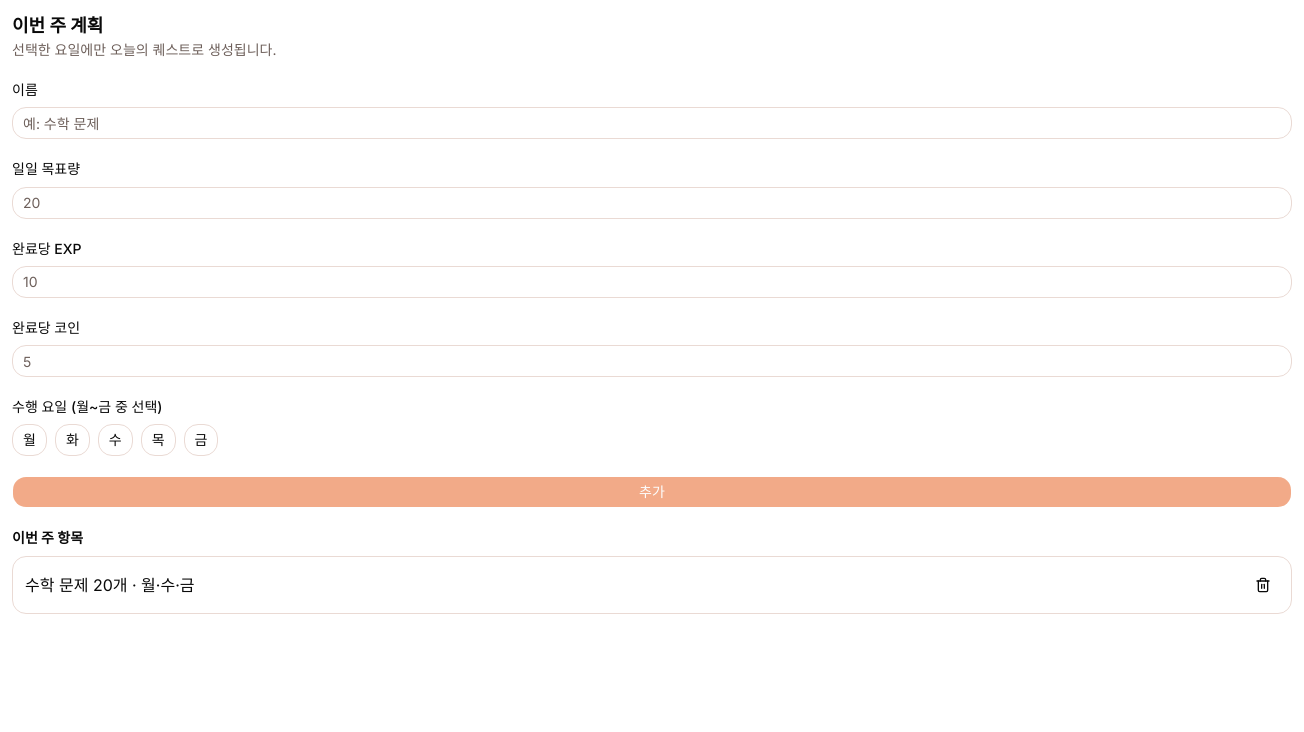
Test: 주 경계 — 계획·진행 지속성 (S12) › [S12-3] 다음 주에도 계획을 추가·수정할 수 있다
This screenshot has width=1304, height=732.
Expected: the text "수학 문제 20개 · 월·수·금" is shown, left=25, top=575, right=194, bottom=595
In the field with placeholder "예: 수학 문제": (652, 123) left=12, top=107, right=1292, bottom=139, type "새 항목"
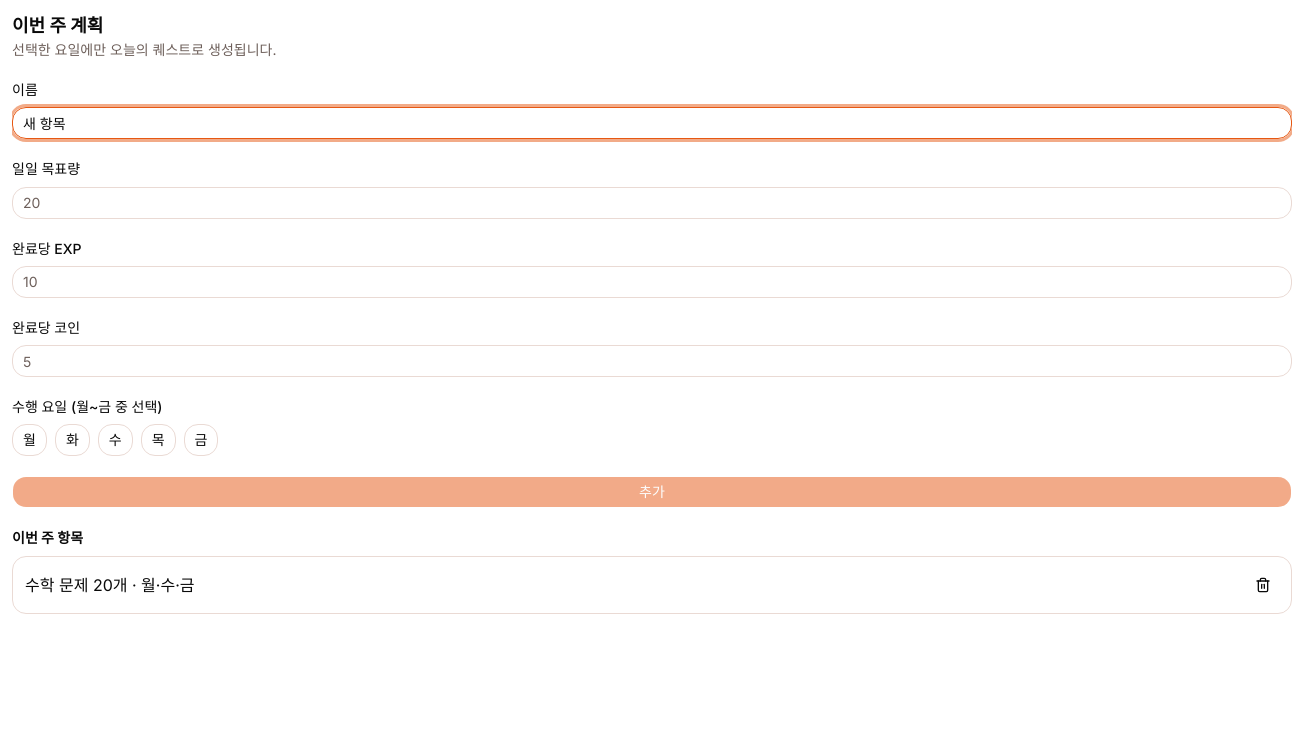
Click the button "화": (72, 440) left=55, top=424, right=90, bottom=456
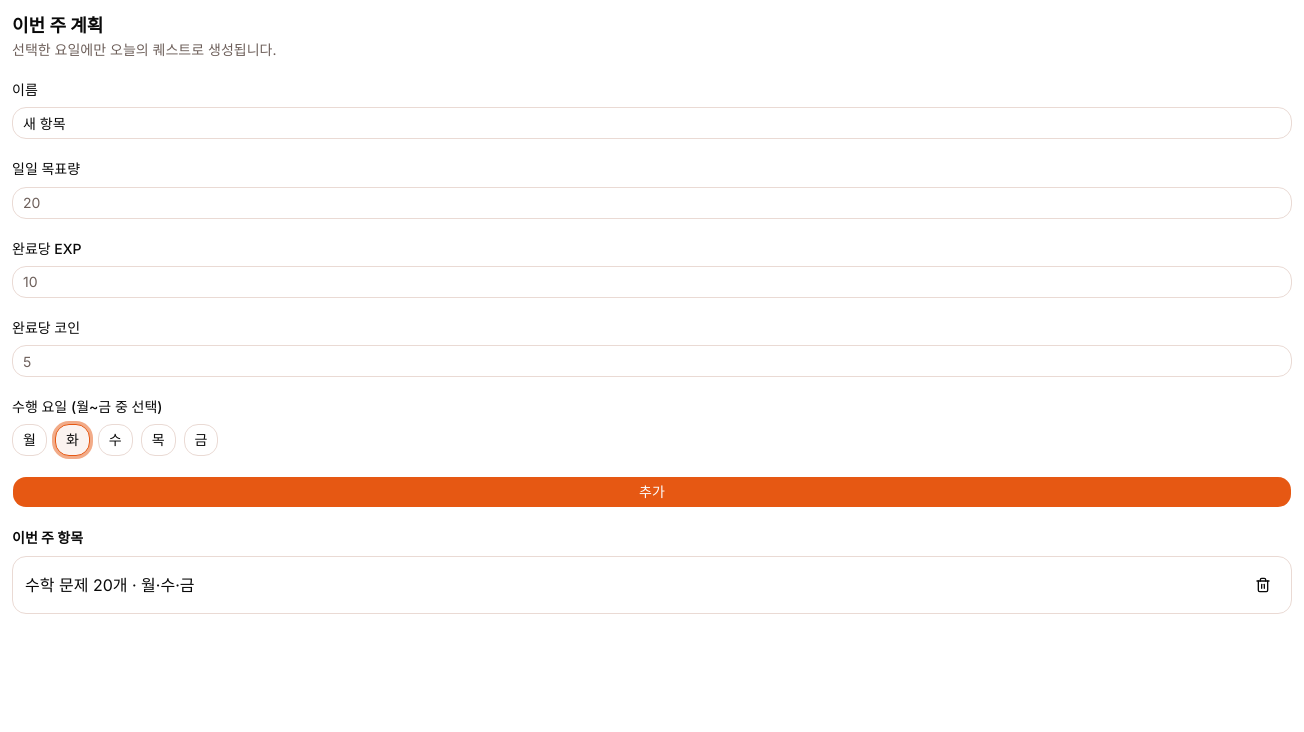
Click the button "추가": (652, 492) left=12, top=476, right=1292, bottom=508
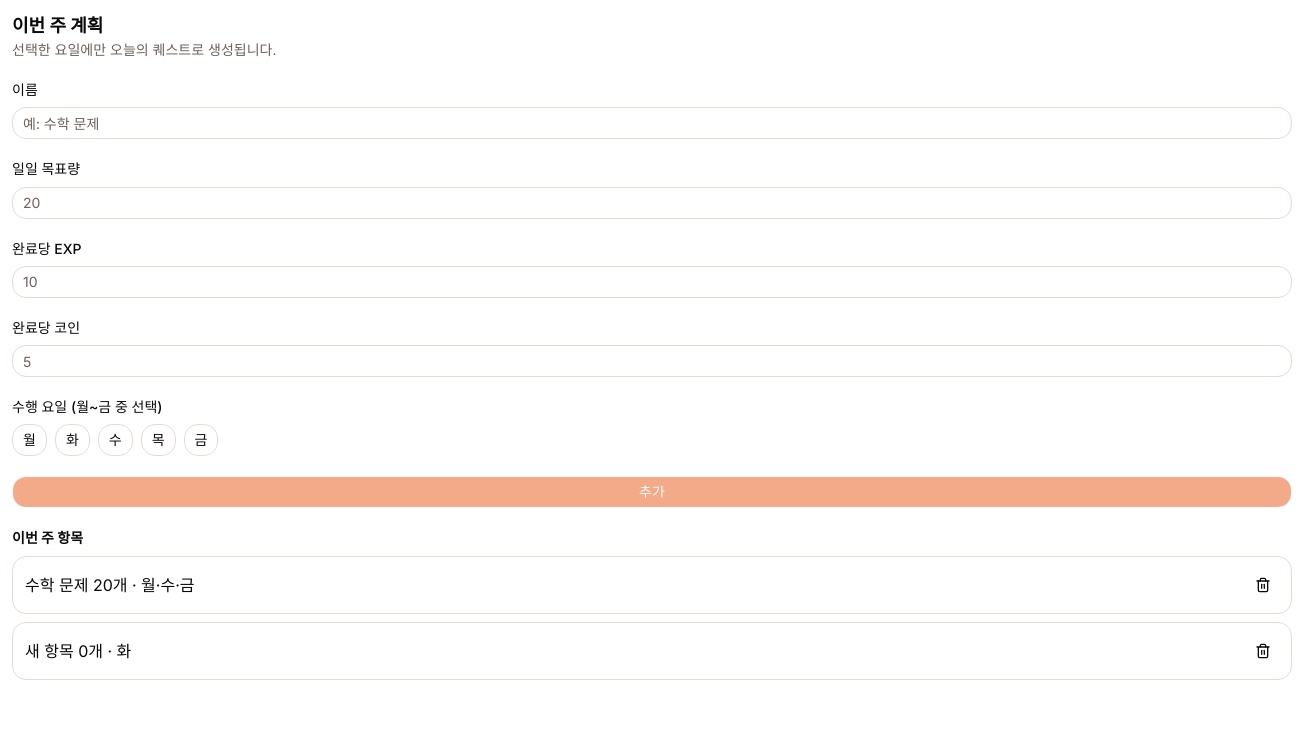
Expected: the text "수학 문제 20개 · 월·수·금" is shown, left=25, top=575, right=194, bottom=595
Expected: the text "새 항목 0개 · 화" is shown, left=25, top=641, right=131, bottom=661
